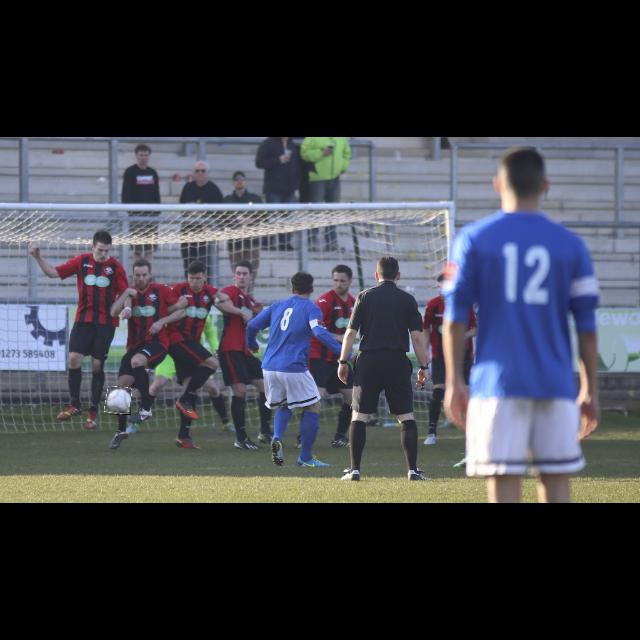Football: (105, 387, 131, 415)
